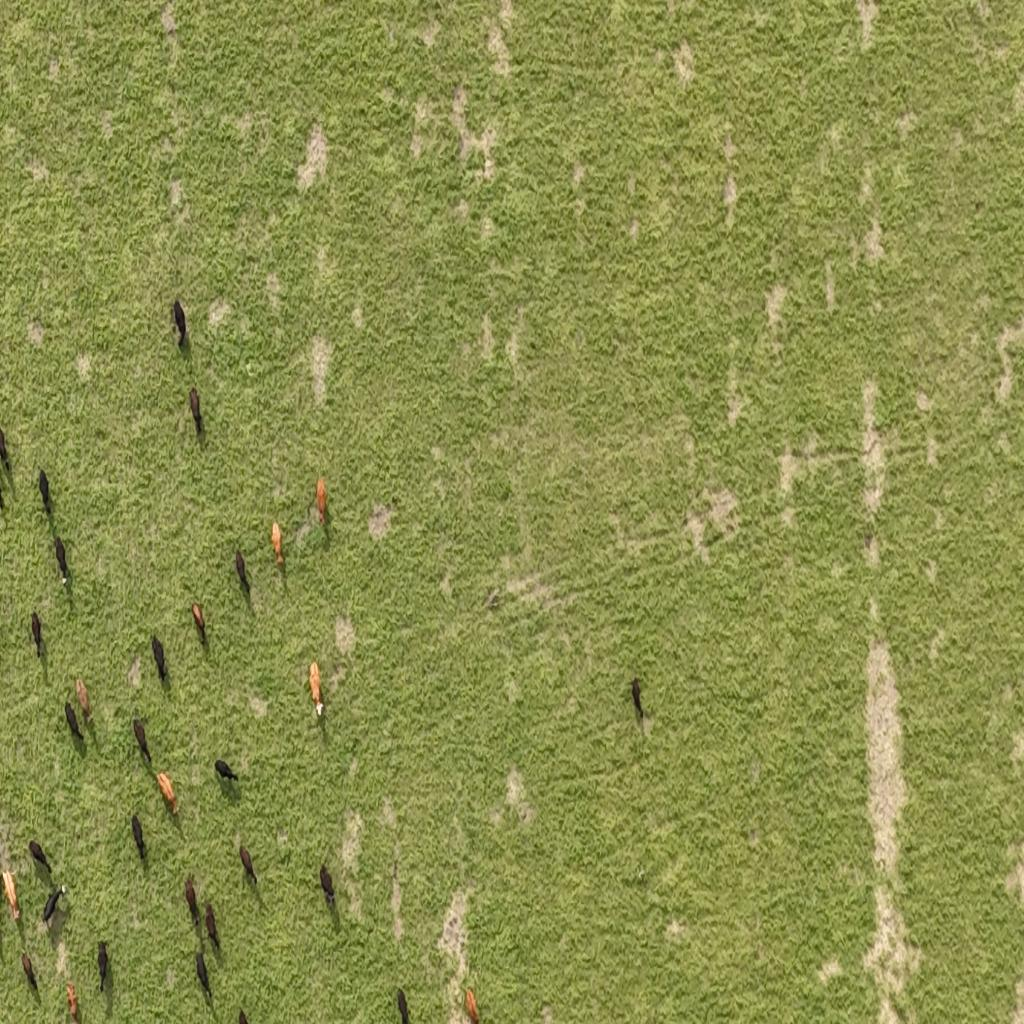cow: (1, 868, 20, 920), (42, 886, 66, 927), (157, 771, 178, 816), (184, 876, 200, 929), (204, 900, 220, 951), (151, 634, 167, 684), (195, 950, 211, 1000), (64, 700, 82, 744), (310, 660, 324, 716), (133, 718, 150, 764), (240, 844, 258, 887), (28, 840, 50, 875), (131, 813, 146, 863), (76, 678, 92, 723), (320, 864, 336, 908), (21, 952, 38, 993), (235, 550, 250, 596), (189, 388, 203, 437), (270, 521, 284, 566), (55, 536, 68, 583), (214, 759, 238, 784), (0, 426, 12, 476), (631, 678, 644, 724), (192, 602, 206, 644), (173, 299, 186, 344), (465, 987, 480, 1024), (98, 940, 108, 992), (397, 988, 411, 1024), (39, 468, 50, 513), (67, 982, 79, 1022), (316, 478, 326, 524), (32, 611, 42, 657), (238, 1009, 249, 1023)
